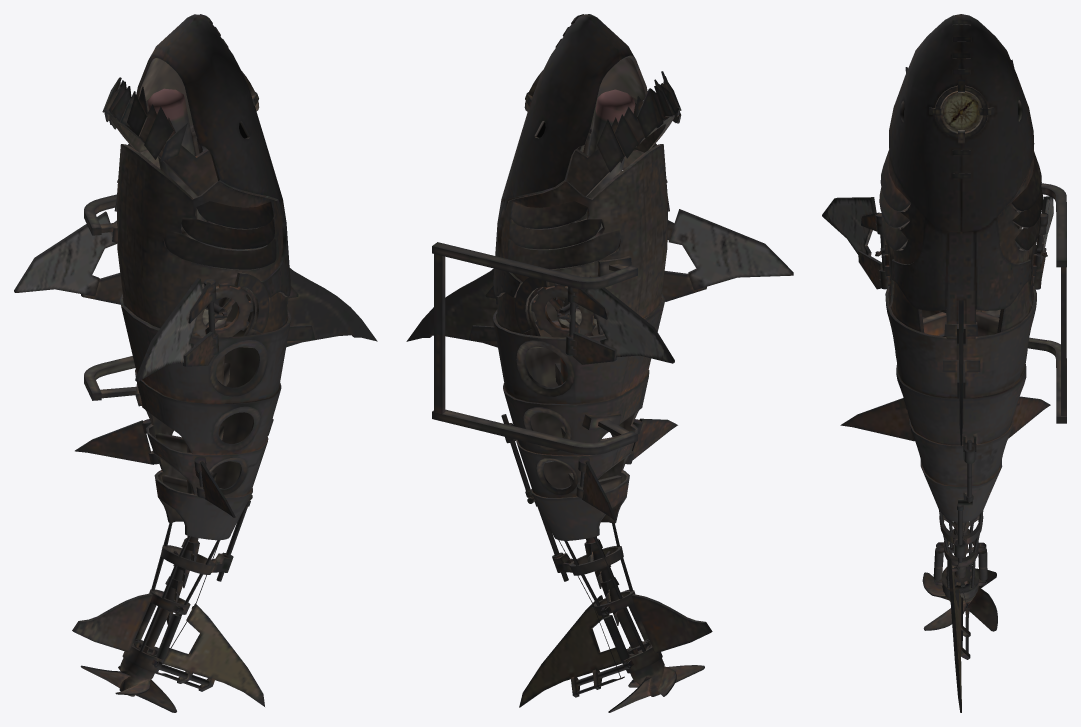
File: Shark.fbx
3 renders of one model, left to right at view 1: azimuth 30°, elevation 25°; view 2: azimuth 150°, elevation 25°; view 3: azimuth 270°, elevation 25°, orthographic. The views are drawn at different scales.
Parts seen in each view (by area): view 1: set_1_group_0; view 2: set_1_group_0; view 3: set_1_group_0.
Boxes of the visible parts, <box> form: set_1_group_0: <box>14,14,377,712</box>; set_1_group_0: <box>406,14,793,712</box>; set_1_group_0: <box>822,14,1066,712</box>.
Size of the model in its own units: 100 by 215 by 71.38.
1 material, 1 textured.
